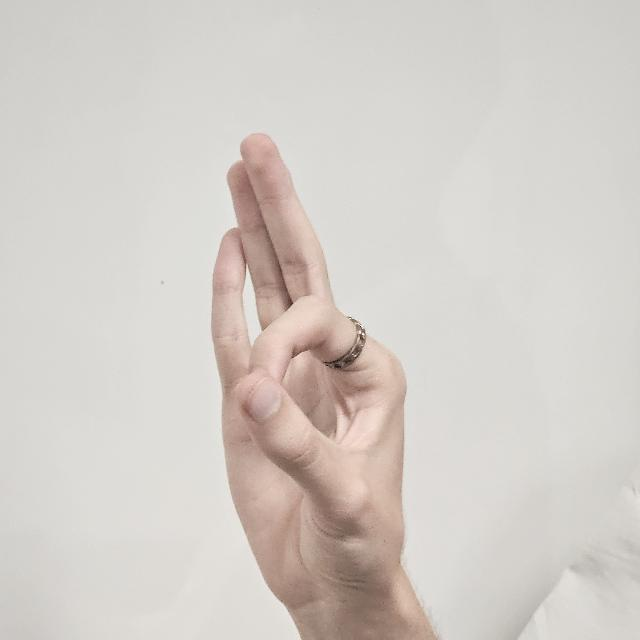Bolinha: (184, 125, 436, 610)
